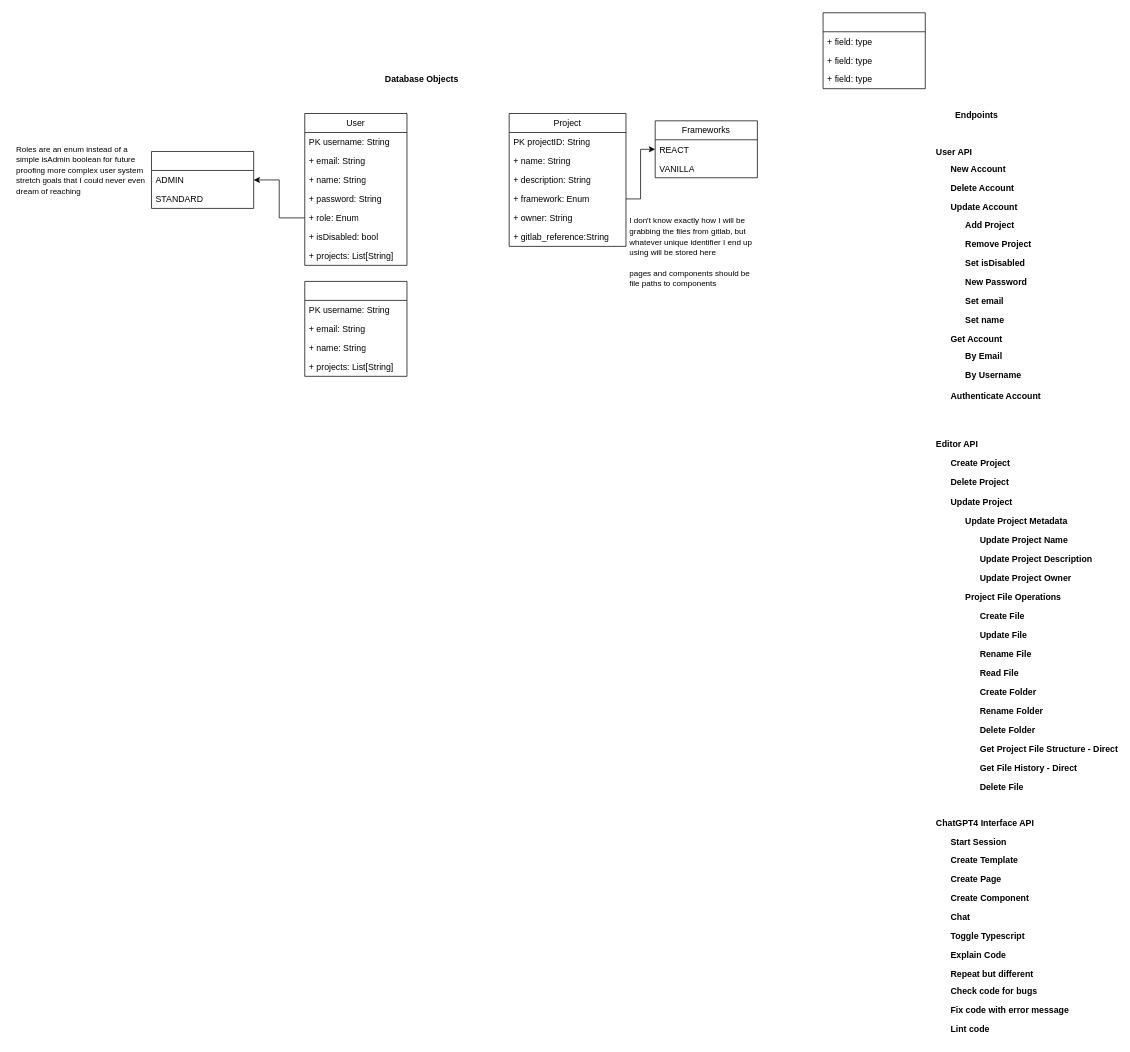
Some shapes in this 1130 by 1052 pixel diagram are drawn without their labels. The box of each missing label's shape, as (x1, y1, x2, y2) in pixels:
Roles: (151, 151, 254, 208)
User_Out: (304, 281, 407, 376)
